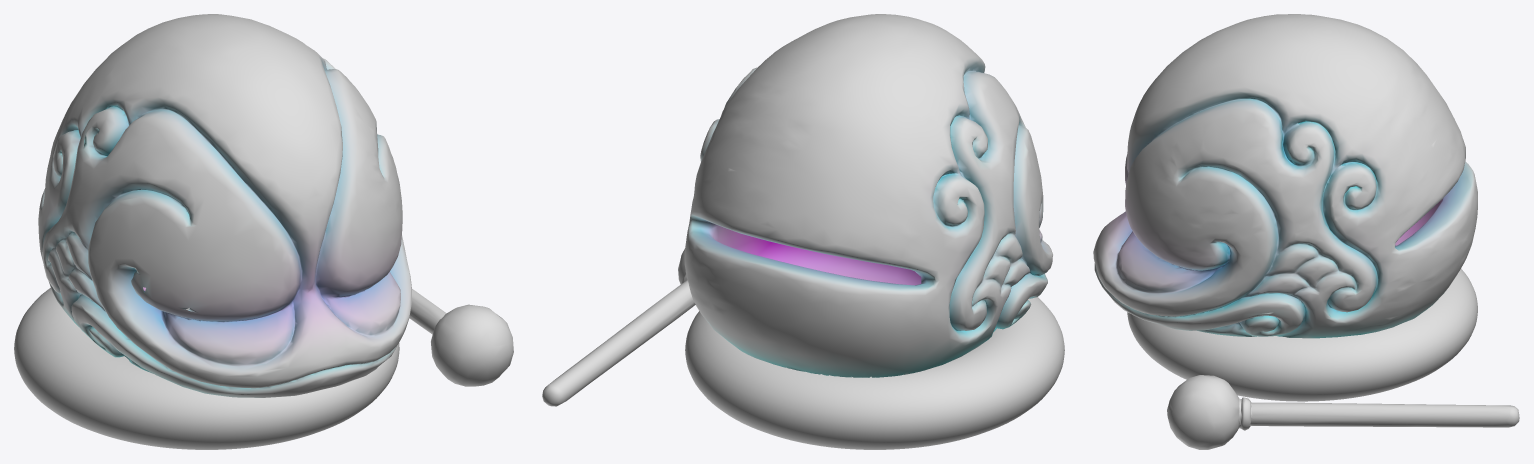
The model's file is wooden-fish.glb.
3 renders of one model, left to right at view 1: azimuth 30°, elevation 25°; view 2: azimuth 150°, elevation 25°; view 3: azimuth 270°, elevation 25°, orthographic. The views are drawn at different scales.
Parts seen in each view (by area): view 1: Fish, Cushion, MalletHead, MalletHandle; view 2: Fish, Cushion, MalletHandle; view 3: Fish, Cushion, MalletHandle, MalletHead.
Boxes of the visible parts, <box> form: Fish: <box>38,14,411,397</box>; Cushion: <box>14,288,399,449</box>; MalletHead: <box>431,304,513,386</box>; MalletHandle: <box>409,289,446,334</box>; Fish: <box>684,14,1052,377</box>; Cushion: <box>685,297,1064,449</box>; MalletHandle: <box>542,280,695,406</box>; Fish: <box>1093,14,1477,338</box>; Cushion: <box>1127,268,1477,401</box>; MalletHandle: <box>1250,402,1519,427</box>; MalletHead: <box>1167,375,1251,449</box>.
Size of the model in its own units: 0.9958 by 0.8365 by 0.975.
